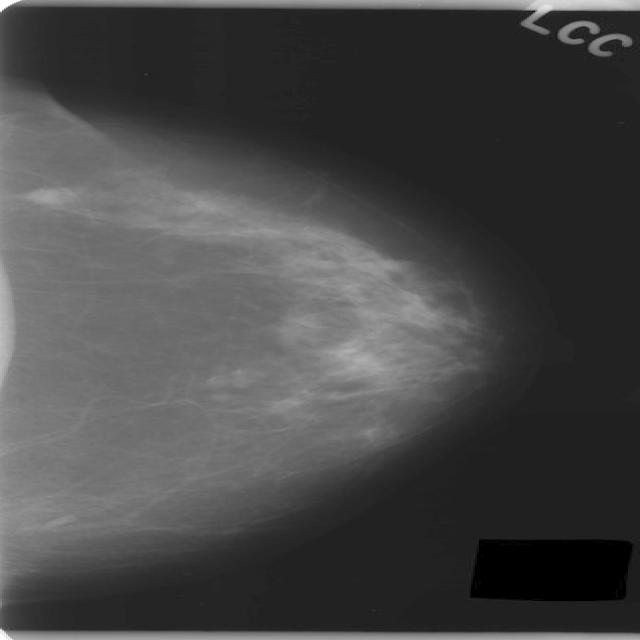tumour: (18, 184, 77, 204)
